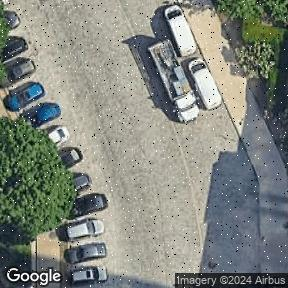vegetation: (0, 118, 75, 239), (234, 39, 279, 85), (0, 3, 9, 81)
